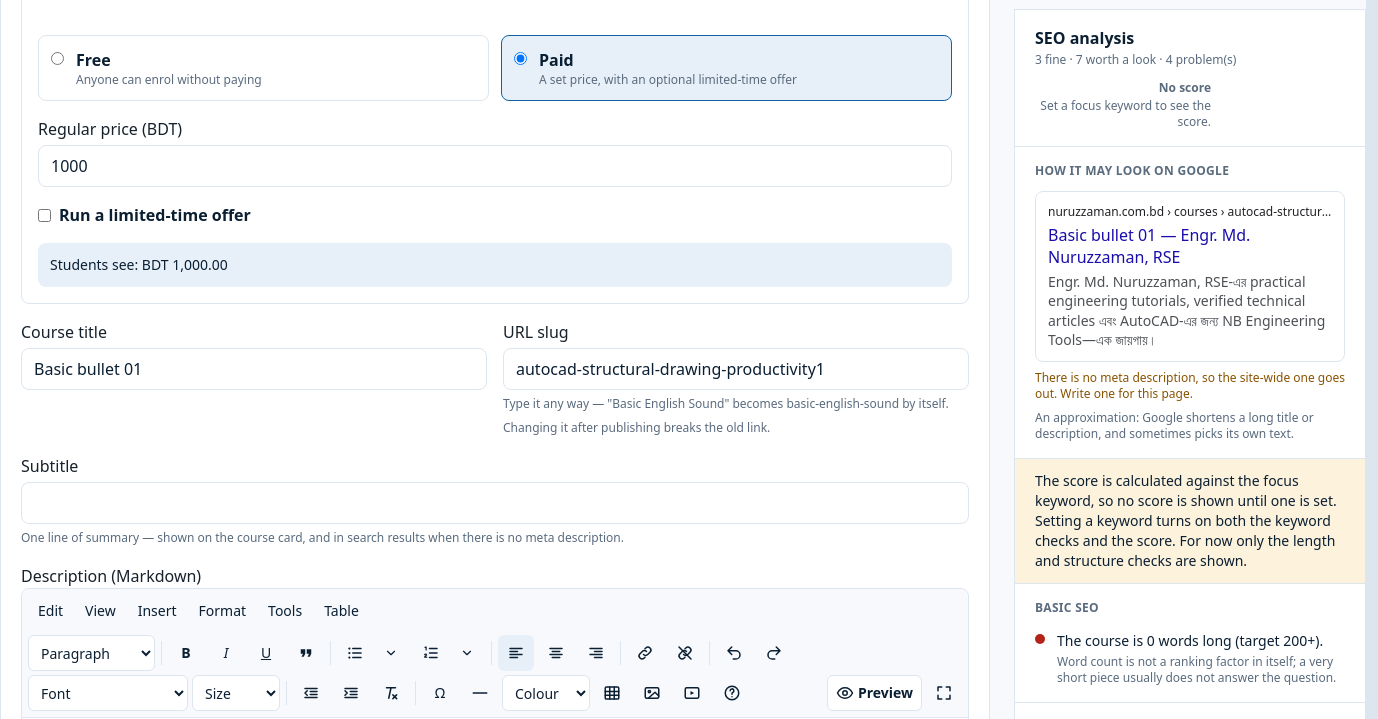
CourseEditor slug and publishing › fills an empty slug from the title
This screenshot has width=1378, height=719.
(page scrolled)
Clear the field labelled "URL slug" at (736, 369), box [503, 348, 969, 390]
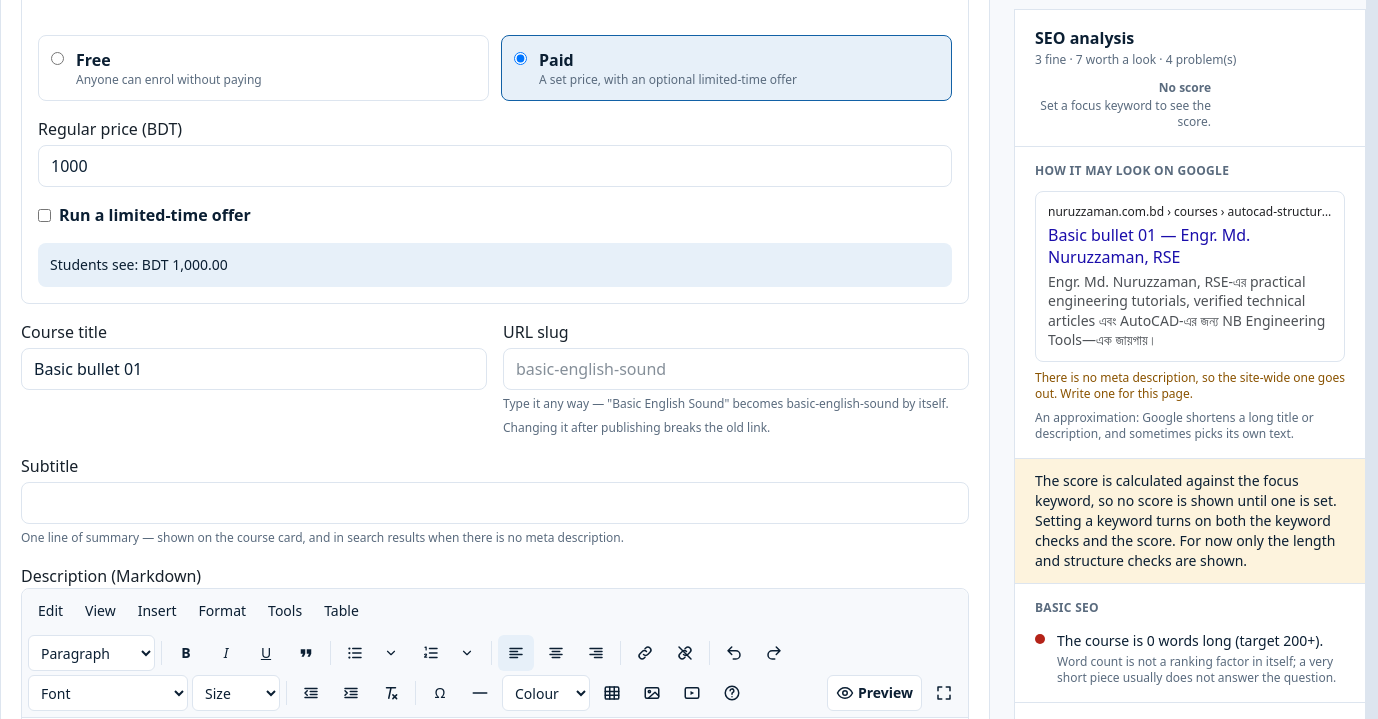
Replace the text in the field labelled "Course title" with "Basic English Sound" at (254, 369), box [21, 348, 487, 390]
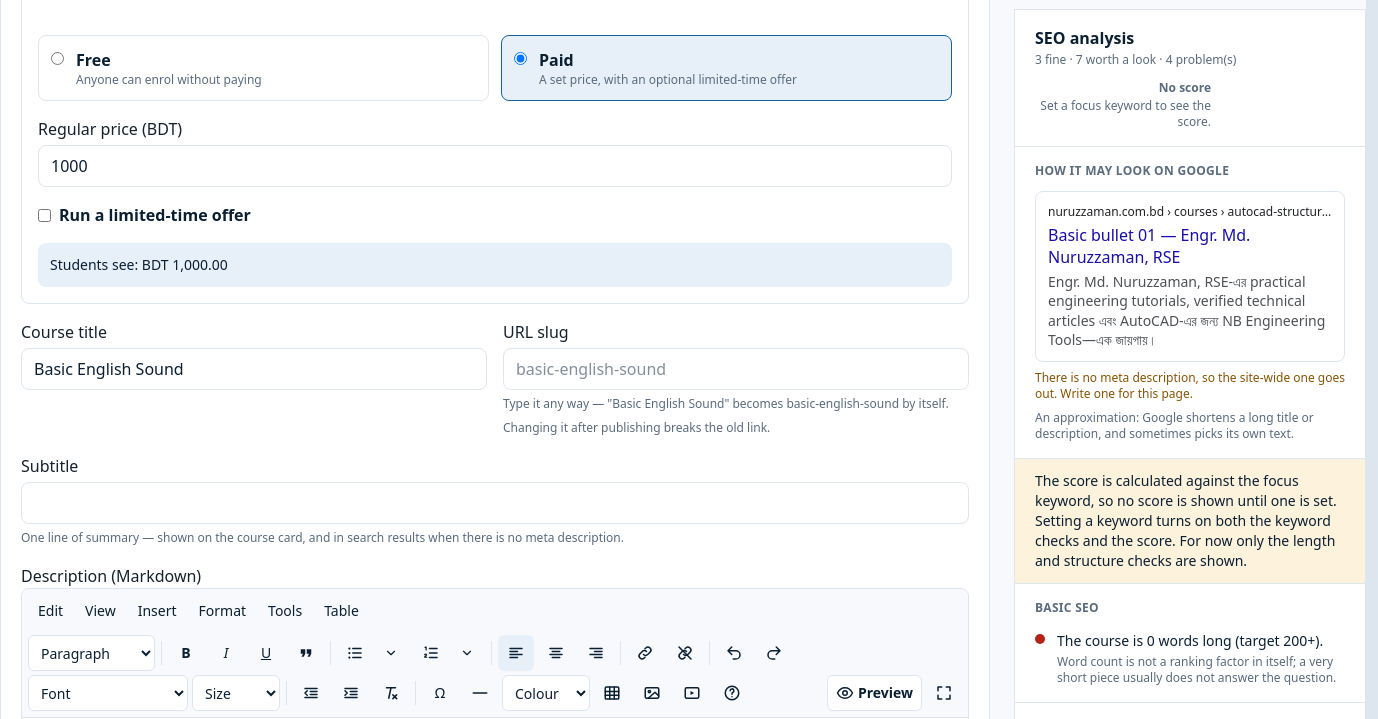
Leave the field labelled "Course title", box [21, 348, 487, 390]
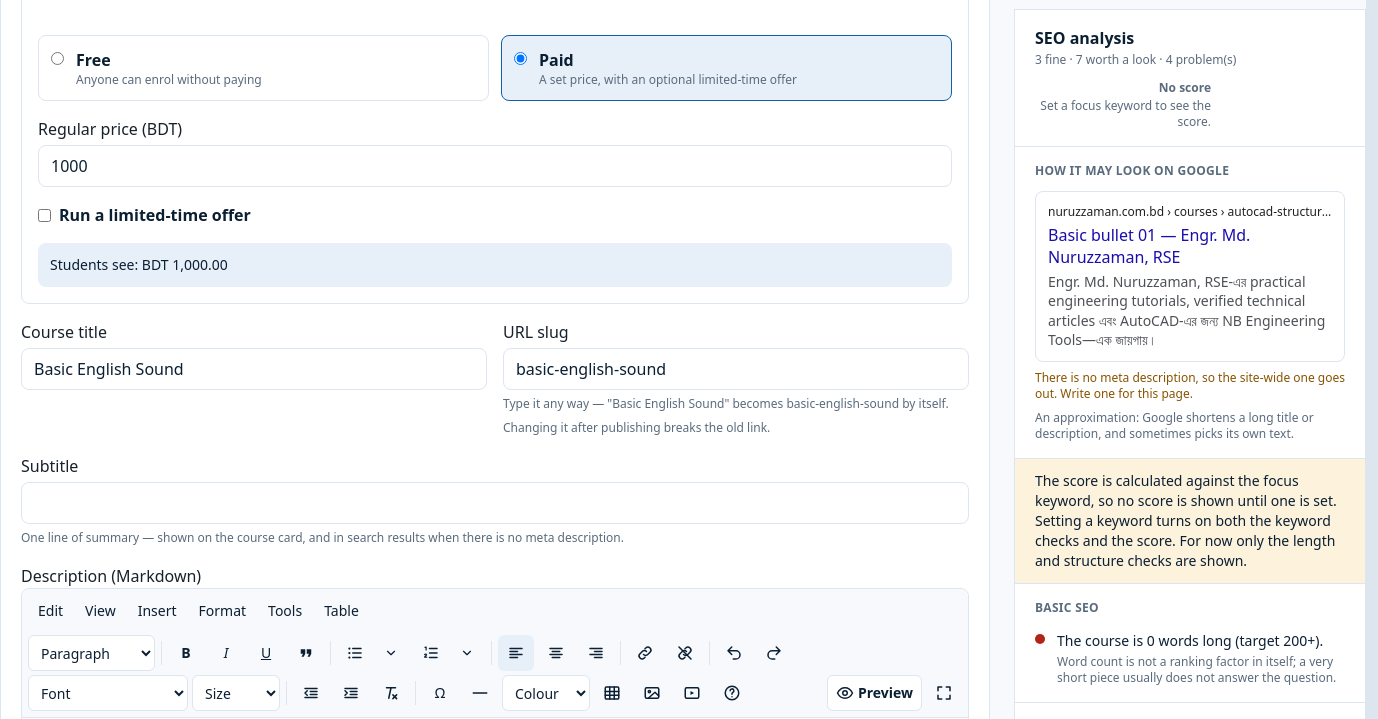
Expected: the field labelled "URL slug" holds "basic-english-sound", [503, 348, 969, 390]
